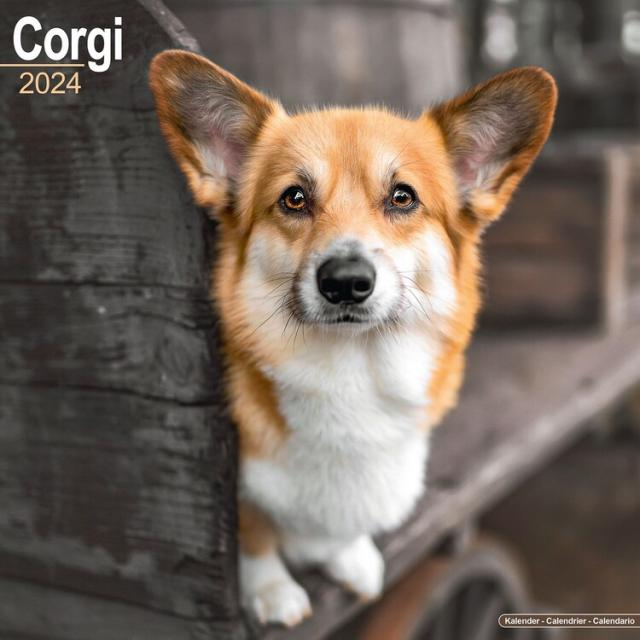CORGI: (160, 42, 541, 624)
